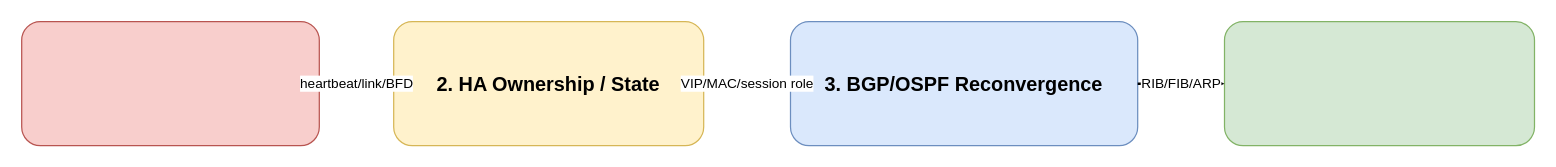
Image size: 1556x167. Some labels were removed from this diagram. Each missing label, with the centre of its shape:
1. Failure Detection: point 169,83
4. Stable Forwarding: point 1378,83
